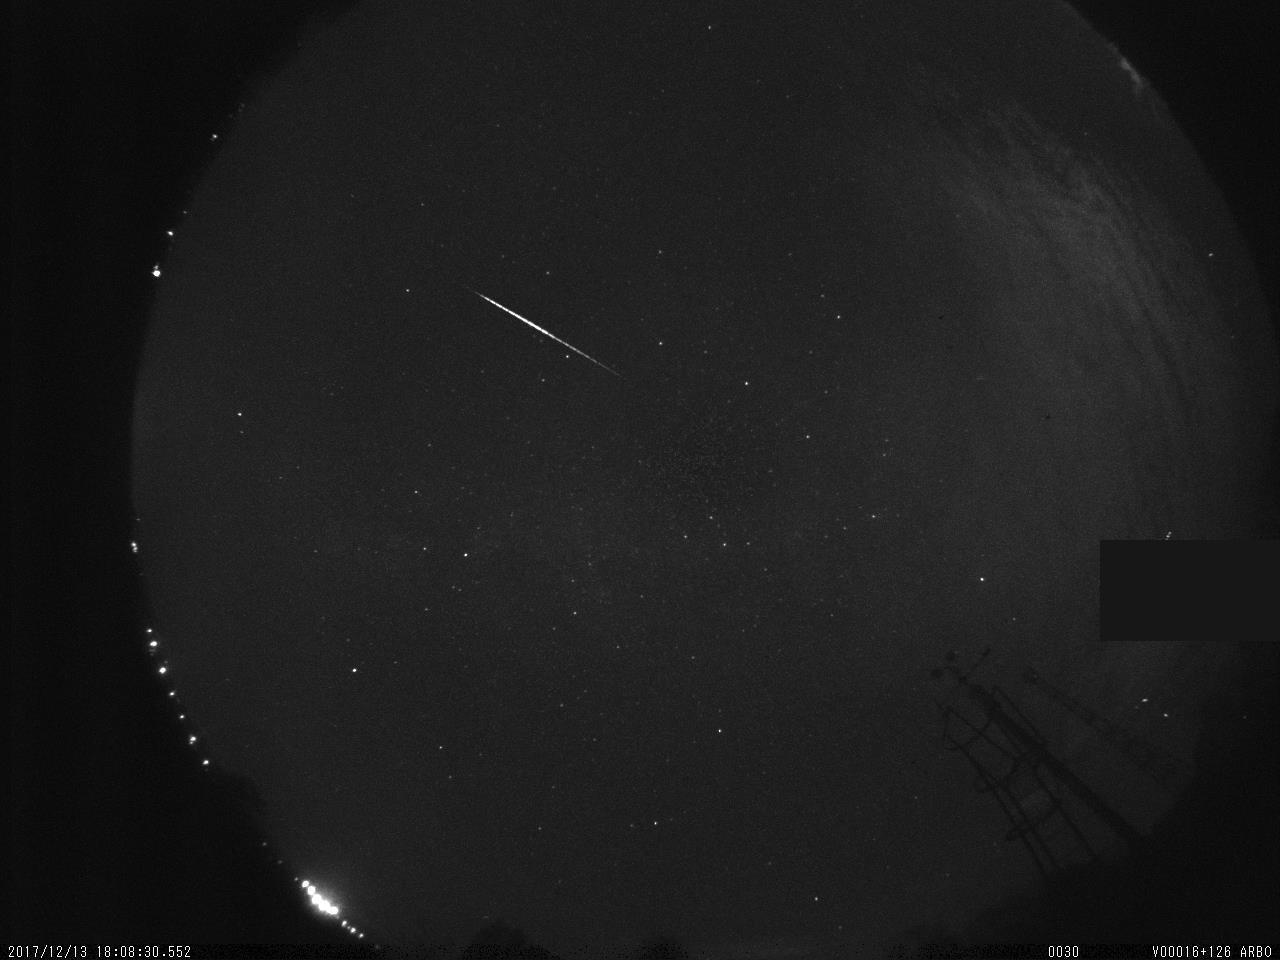Meteor: (467, 286, 622, 379)
